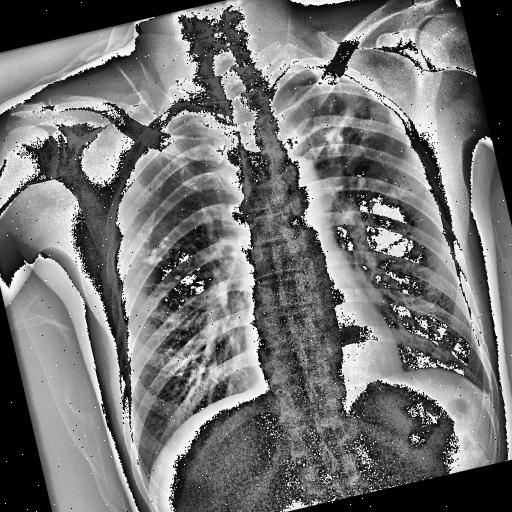11- Pleural thickening: (284, 58, 334, 84), (384, 106, 408, 134), (386, 104, 404, 130)
13- Pulmonary fibrosis: (312, 84, 420, 212), (304, 77, 386, 214), (312, 84, 382, 163), (129, 222, 197, 292), (134, 222, 196, 288), (161, 146, 204, 201), (136, 224, 176, 268)
2- Calcification: (134, 222, 196, 288), (136, 224, 176, 268)
